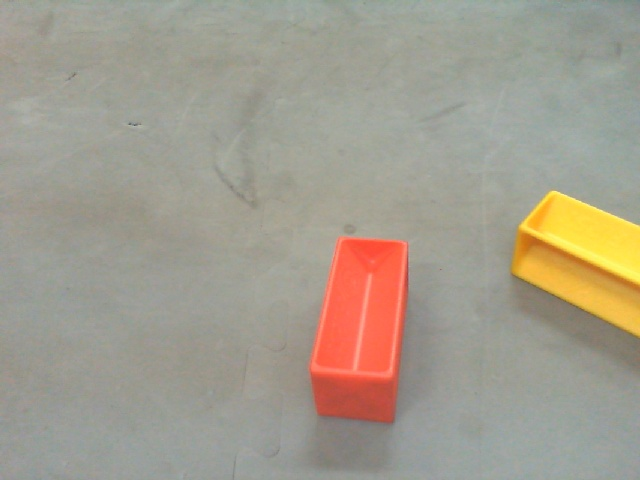RedSample: (311, 236, 409, 421)
YellowSample: (508, 187, 640, 339)
